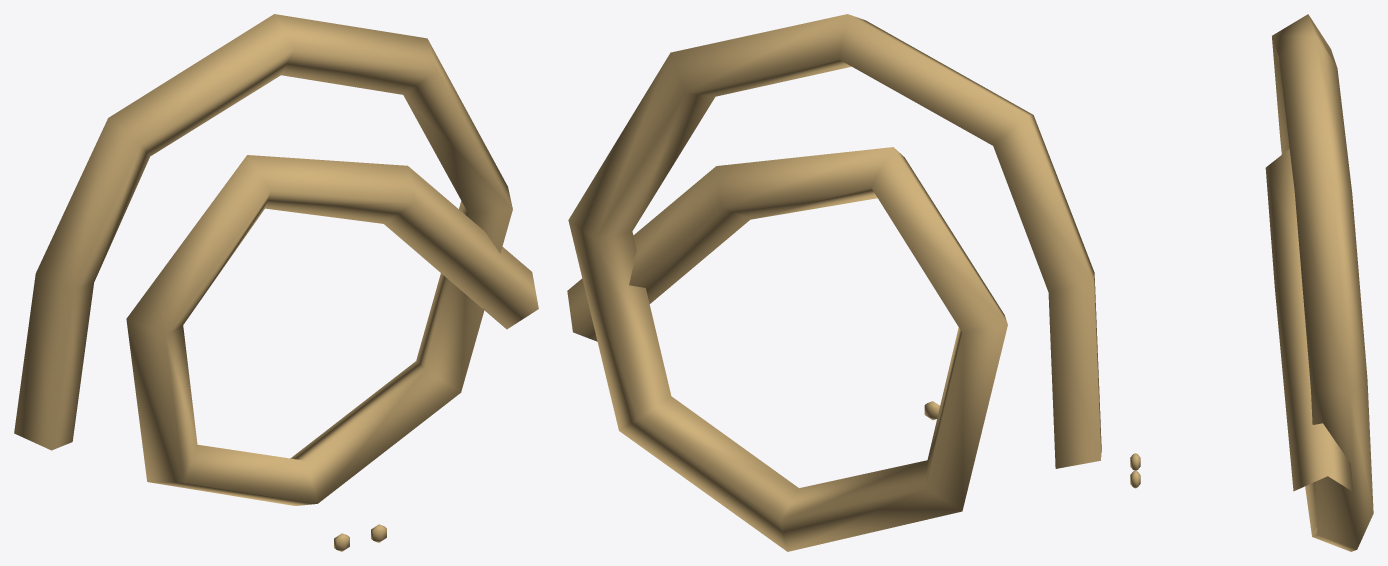
The picture shows the model from 3 angles, left to right: view 1: azimuth 30°, elevation 25°; view 2: azimuth 150°, elevation 25°; view 3: azimuth 270°, elevation 25°; orthographic projection. The views are drawn at different scales.
Parts seen in each view (by area): view 1: g_s58; view 2: g_s58; view 3: g_s58.
Boxes of the visible parts, bbox=[...] form: g_s58: bbox=[14, 14, 538, 551]; g_s58: bbox=[567, 14, 1101, 551]; g_s58: bbox=[1130, 14, 1373, 551].
Size of the model in its own units: 0.4894 by 0.4665 by 0.207.
